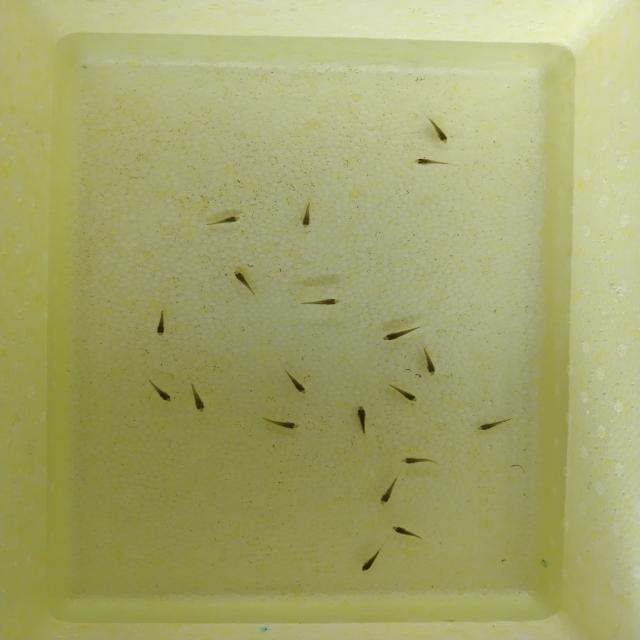fingerling: (416, 110, 456, 146), (378, 322, 432, 343), (384, 381, 423, 410), (231, 266, 261, 302), (375, 472, 404, 508), (141, 374, 174, 404), (473, 414, 521, 434), (148, 306, 174, 340), (256, 414, 305, 432), (187, 378, 209, 417), (278, 366, 308, 394), (418, 346, 443, 378), (386, 524, 428, 542), (356, 547, 384, 574), (200, 213, 244, 230), (351, 404, 372, 439), (409, 155, 459, 169), (396, 454, 444, 468), (297, 195, 316, 230), (297, 297, 344, 309)
